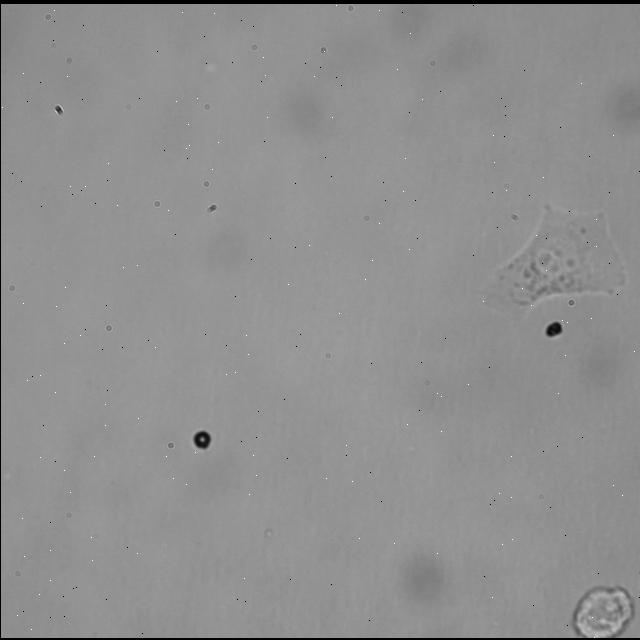microbeads: (192, 428, 210, 452)
